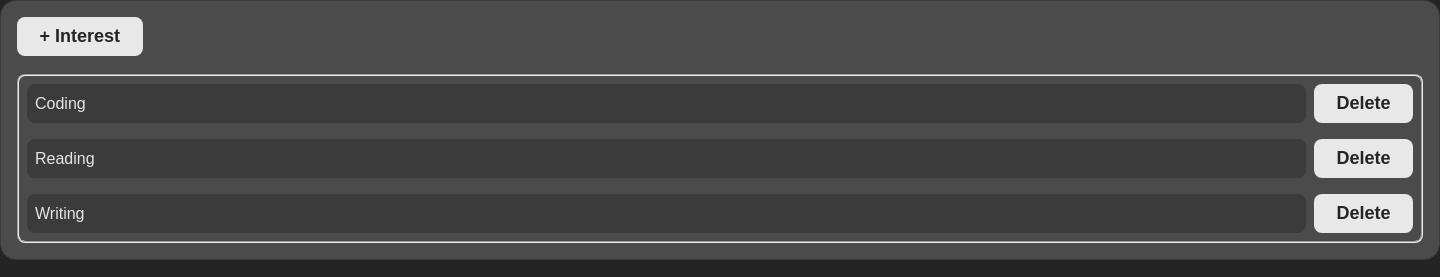
Test: Testing the Interests component › Testing form buttons and inputs › Clicking delete interest deletes the correct interest
The image size is (1440, 277).
Click the 2nd button "Delete" at (1364, 158), box [1314, 139, 1413, 178]
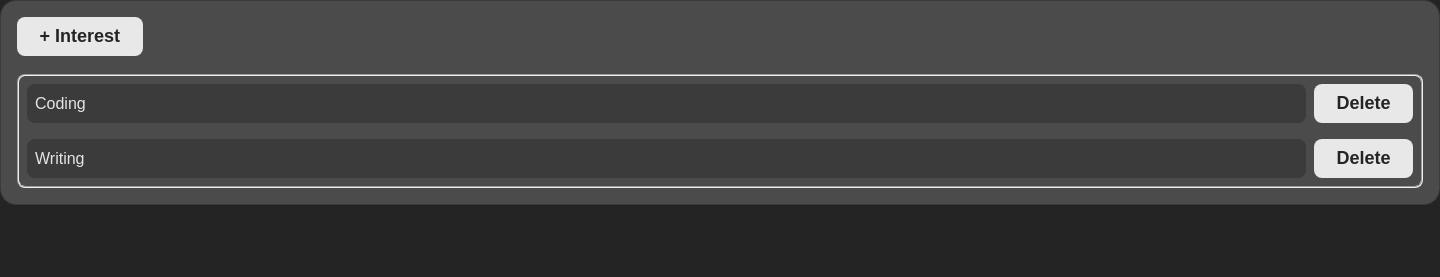
Expected: the 1st field showing "Coding" is shown, [27, 84, 1306, 123]
Now the 2nd field showing "Writing" is shown, box [27, 139, 1306, 178]
